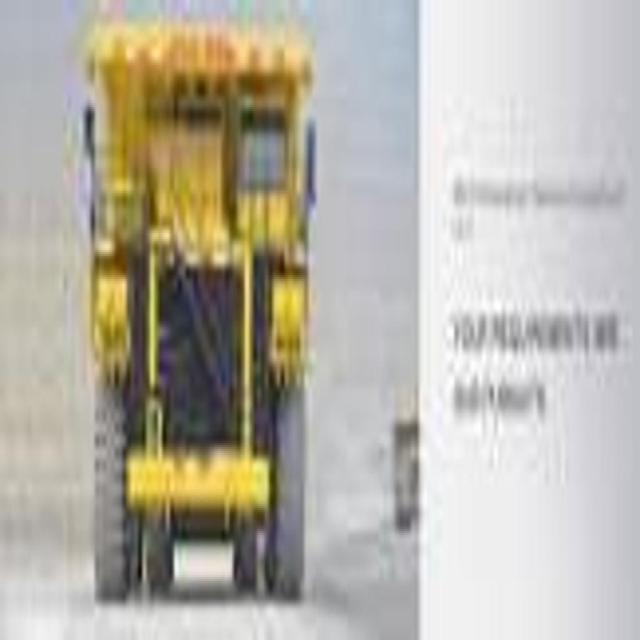dump_truck: (81, 15, 322, 622)
